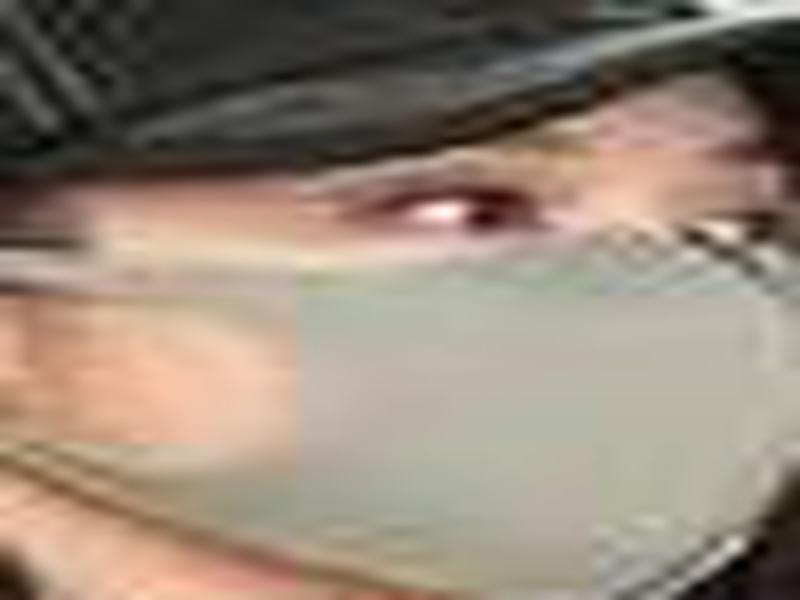with_mask: (1, 62, 799, 600)
